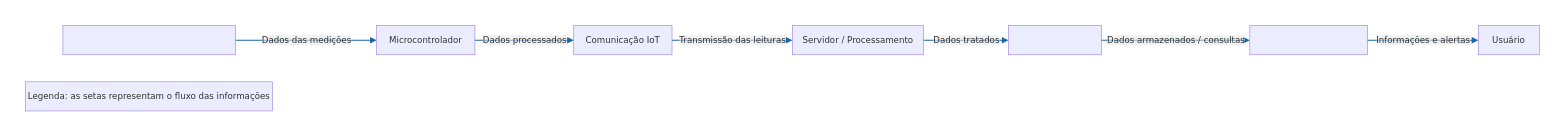
The diagram is 1549 pixels wide and 120 high, and some of its shapes have lost their labels. Here are the shapes that lost their labels. From the top down, the centre of each, then its label:
At point 149,40: "Sensores de monitoramento da água".
At point 1054,40: "Banco de Dados".
At point 1308,40: "Interface / Dashboard".
